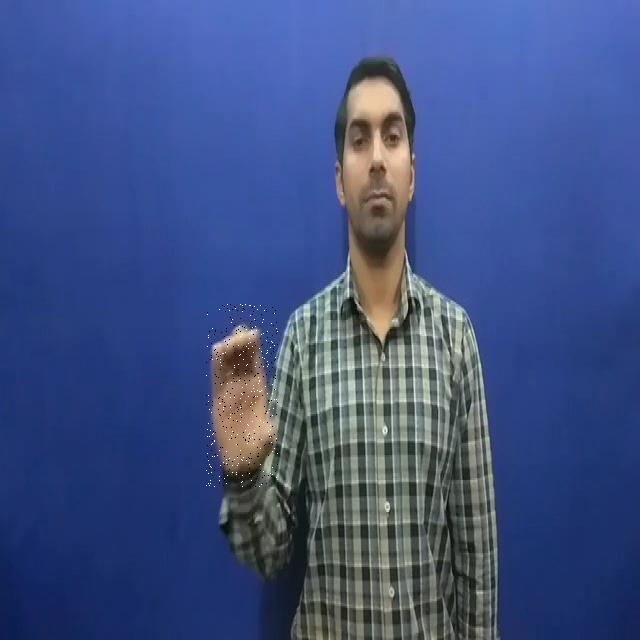pepper: (206, 304, 278, 488)
